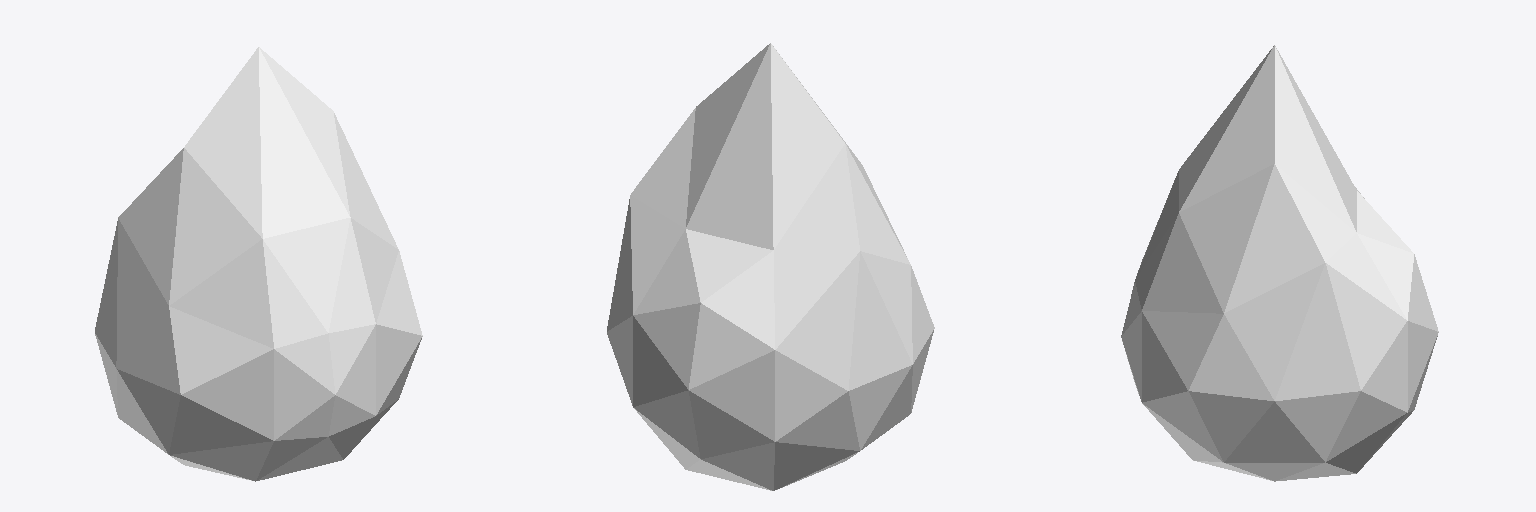
File: Doctor2.obj
3 views of the same model, side by side, from view 1: azimuth 30°, elevation 25°; view 2: azimuth 150°, elevation 25°; view 3: azimuth 270°, elevation 25° (orthographic).
Parts seen in each view (by area): view 1: Doctor2; view 2: Doctor2; view 3: Doctor2.
Part boxes in pixels (x1,y1,x2,y2): Doctor2: (95,47,422,481); Doctor2: (607,43,934,490); Doctor2: (1121,45,1438,481).
Bounding box in the file's own units: 0.4 × 0.5679 × 0.3871.